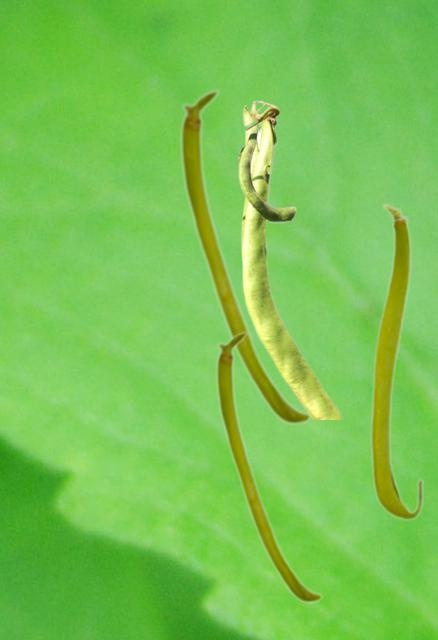french_bean: (179, 88, 311, 425), (237, 100, 342, 418), (215, 330, 322, 603), (369, 202, 423, 520)
